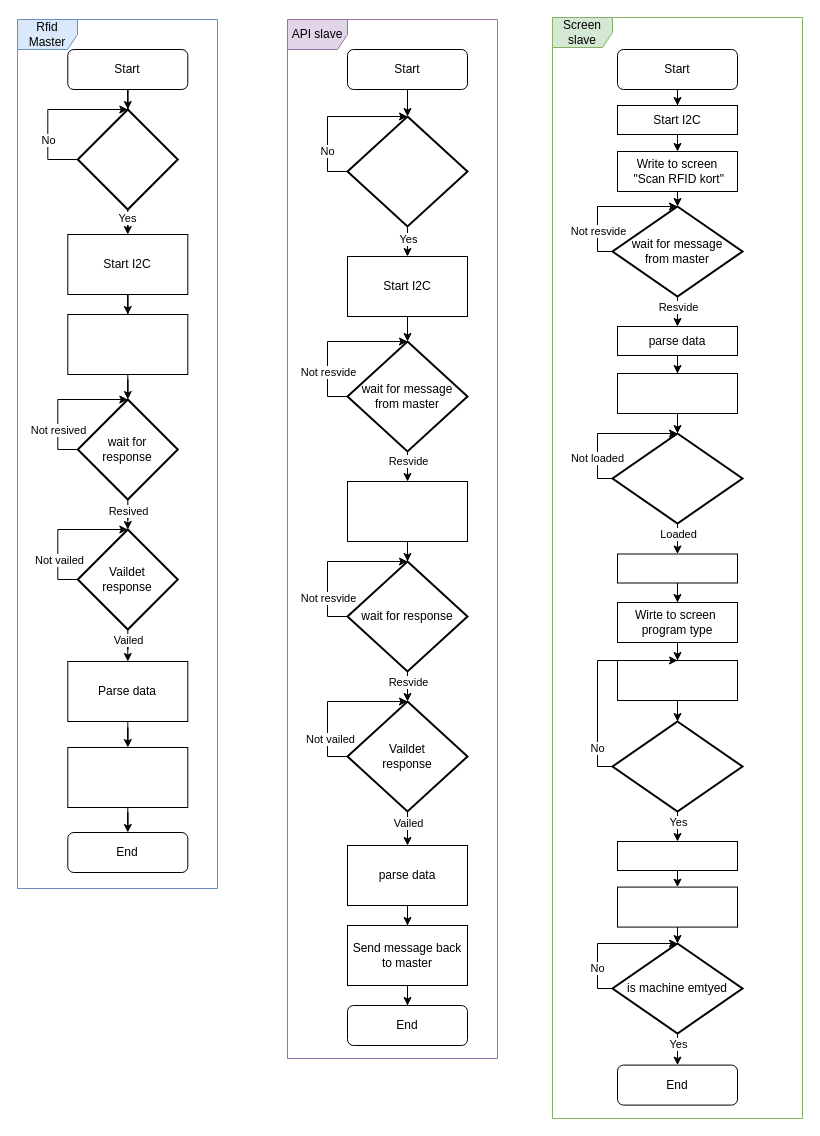
Image size: 820x1136. Some labels were removed from this diagram. The centre of each missing label's shape, as x and y in pixels:
is Wifi connected: [407,171]
Make http get requset: [407,511]
RFID scan: [127,159]
Send message to Api-slave: [127,344]
Send message to screen-slave: [127,777]
Start machine: [677,568]
Stop machine: [677,855]
timeLeft == 0: [677,766]
Wait for user to load the machine: [677,478]
Wirte to screen time left: [677,680]
Write to screen "load": [677,393]
Write to screen "tom maskinen": [677,906]
